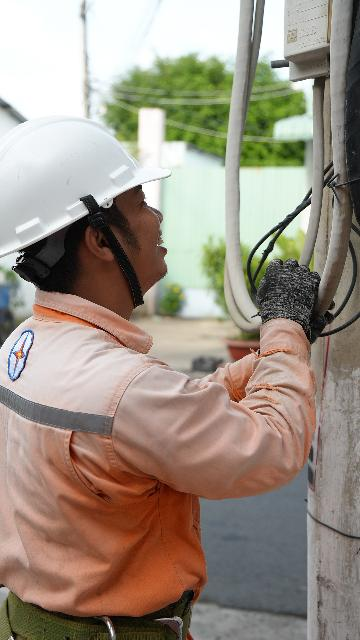gloves: (247, 240, 321, 346), (280, 286, 342, 354)
helmet: (0, 92, 163, 274)
